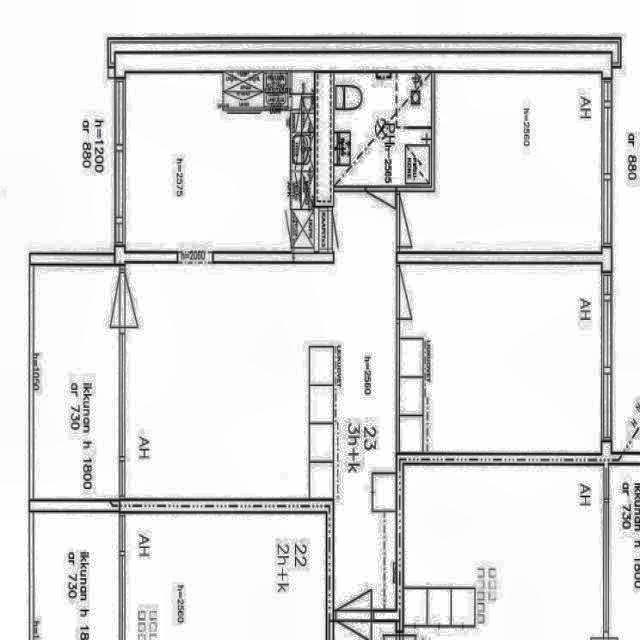room: (400, 265, 602, 453), (125, 72, 333, 252), (400, 73, 601, 252), (34, 267, 120, 499), (334, 73, 431, 186)
